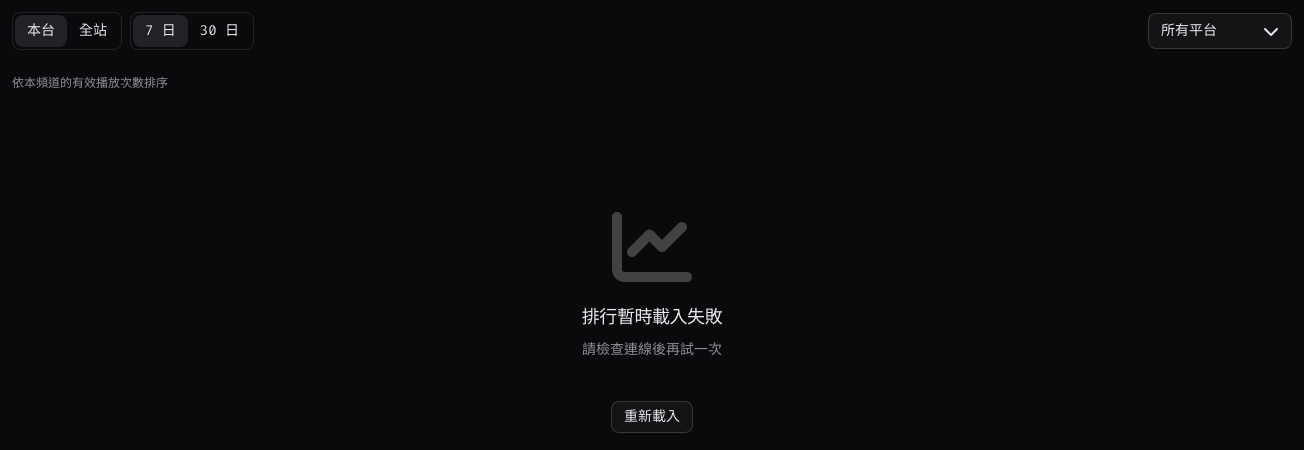
Test: RankingPanel › shows an actionable retry state instead of a blank ranking
This screenshot has width=1304, height=450.
Expected: the text "排行暫時載入失敗" is shown, left=582, top=303, right=722, bottom=331
Click the button "重新載入": (652, 417) left=611, top=401, right=693, bottom=433
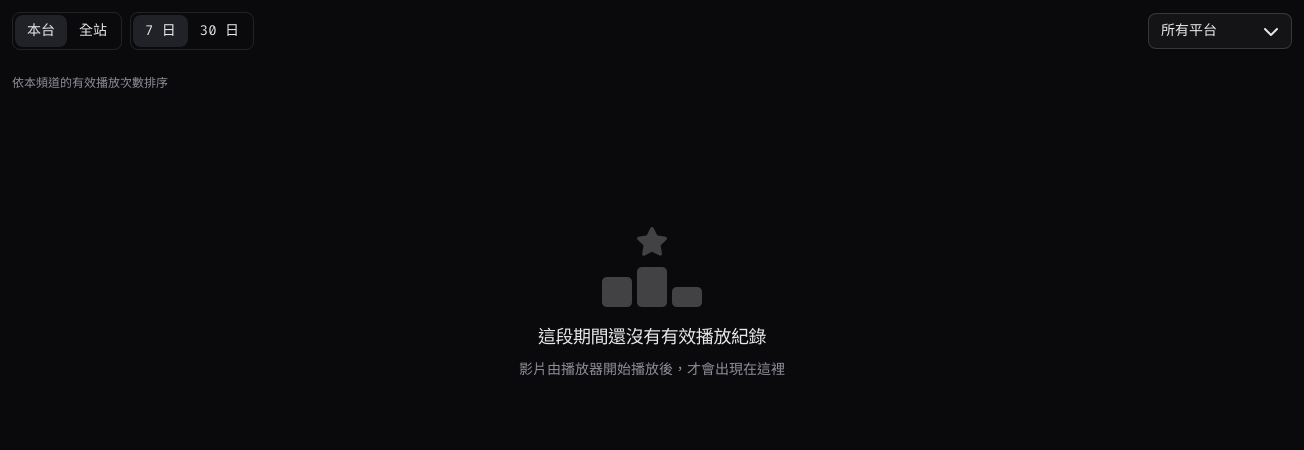
Expected: the text "這段期間還沒有有效播放紀錄" is shown, left=538, top=323, right=766, bottom=351
